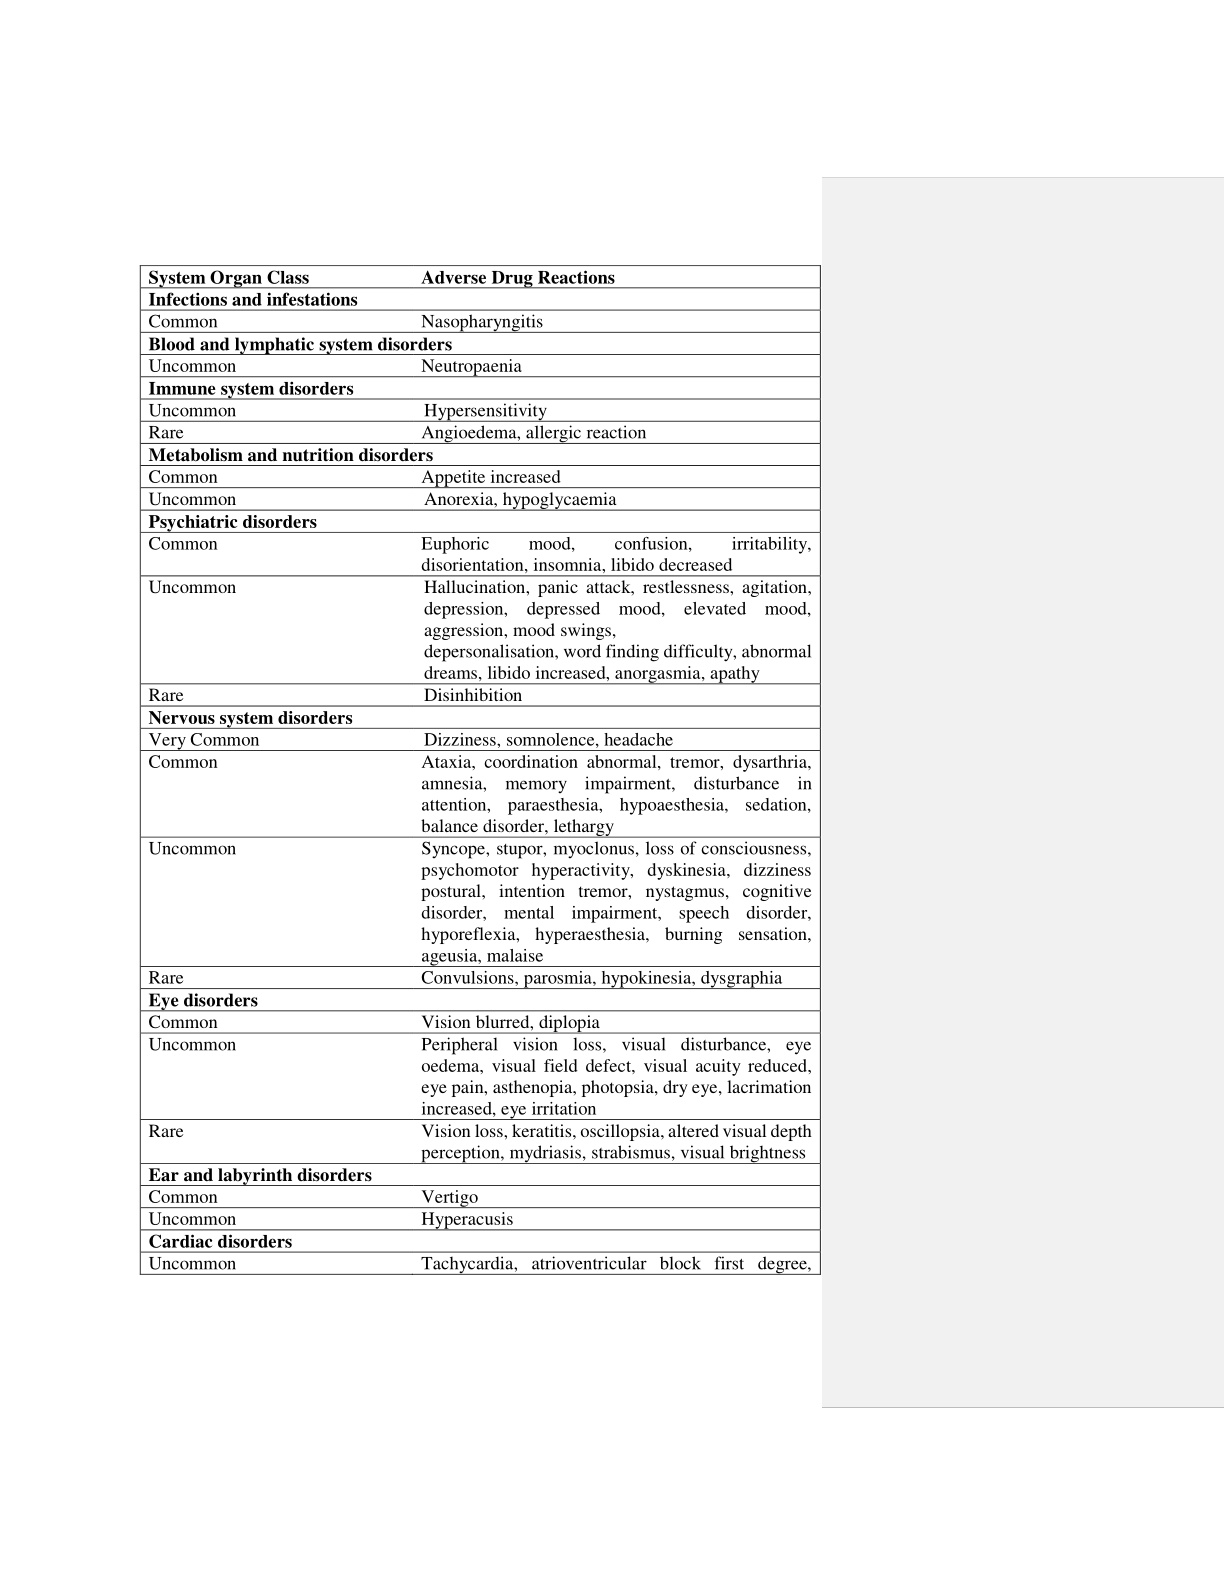full_lined: (132, 257, 827, 1286)
